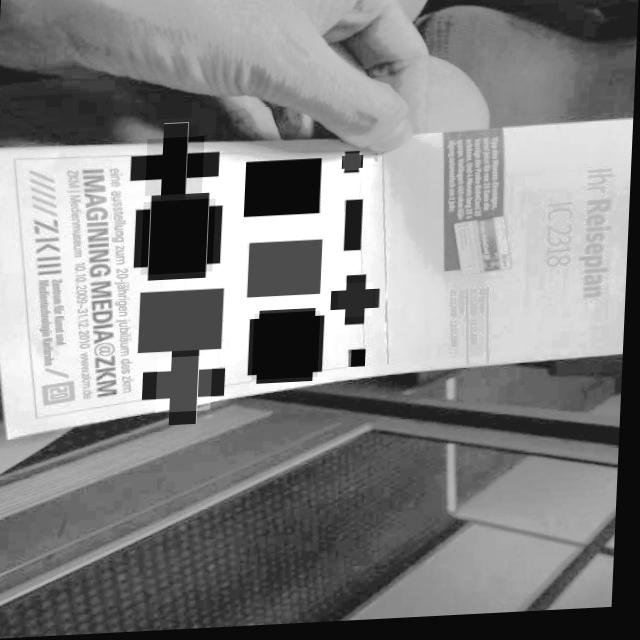qr_code: (142, 201, 217, 277), (139, 291, 226, 355), (254, 314, 323, 383), (245, 162, 323, 220), (248, 242, 324, 301), (146, 138, 205, 198), (158, 358, 215, 415), (339, 286, 375, 322), (345, 203, 364, 256), (343, 157, 362, 175), (351, 353, 368, 371)
